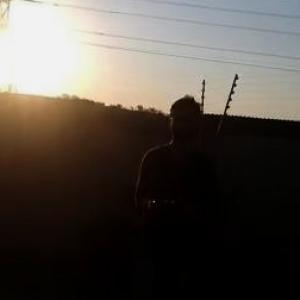follow: (126, 88, 220, 299)
